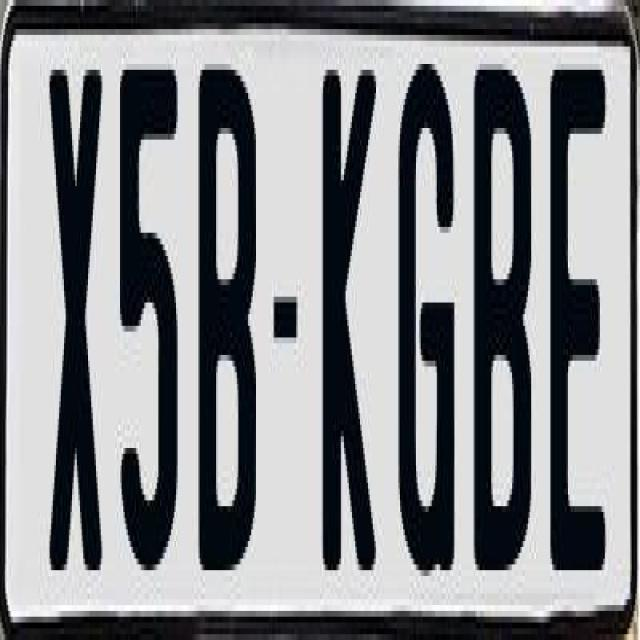5: (120, 70, 179, 576)
B: (193, 52, 260, 558), (470, 70, 530, 594)
E: (546, 52, 610, 558)
G: (398, 58, 461, 576)
K: (320, 63, 379, 564)
X: (44, 52, 102, 576)
